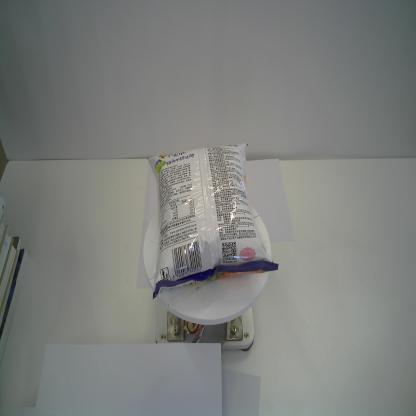Puffed Food: (146, 143, 280, 301)
